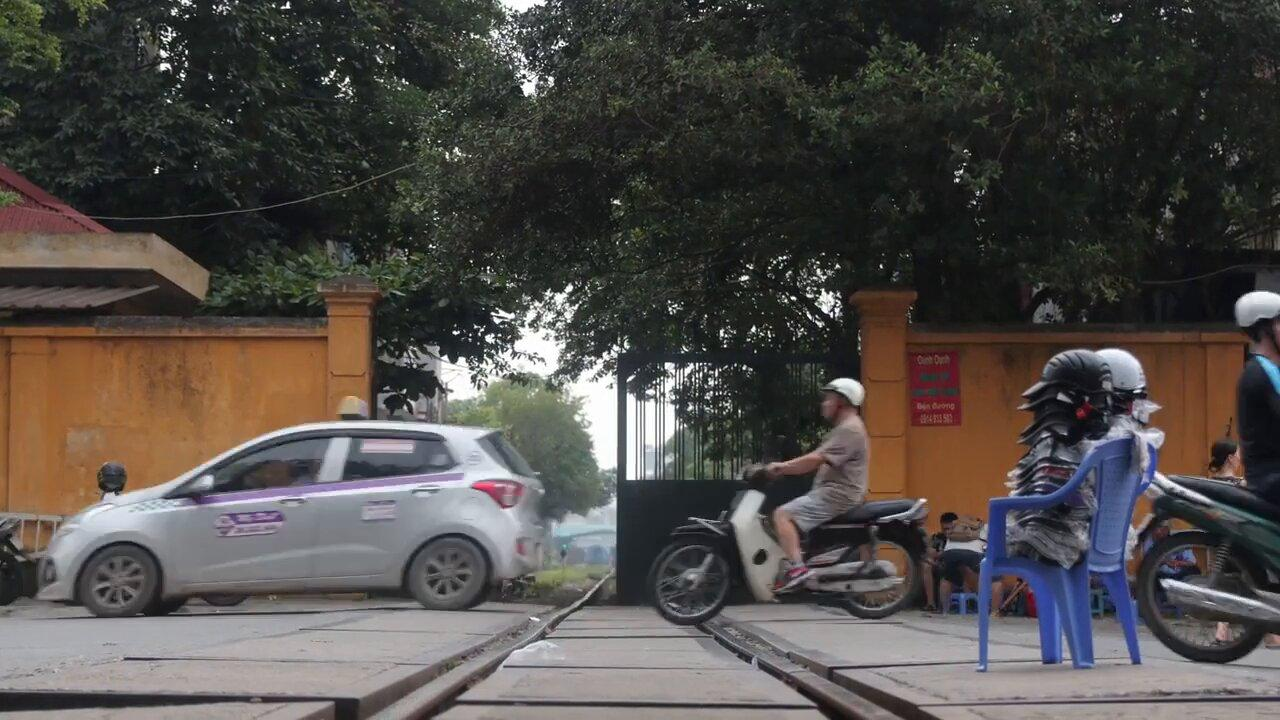driver: (647, 376, 929, 626), (1130, 290, 1280, 665)
helmet: (1234, 291, 1280, 356), (818, 377, 865, 425)
